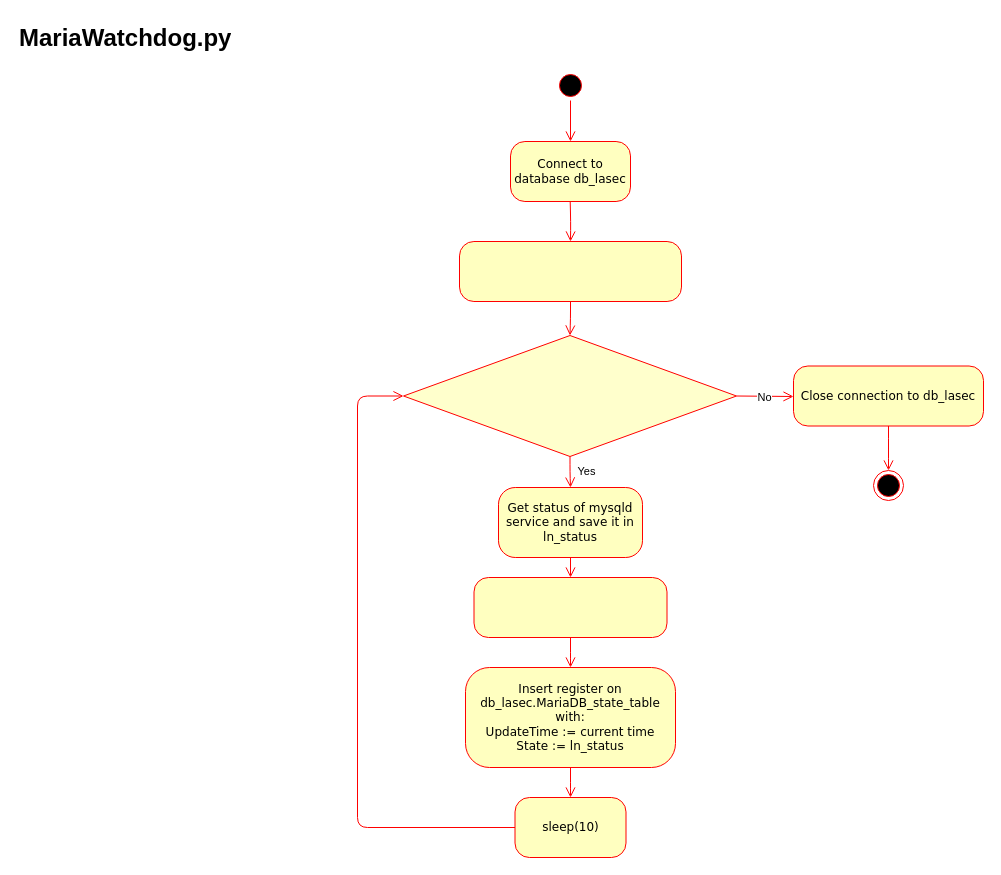
Some shapes in this 1001 by 875 pixel diagram are drawn without their labels. Here are the shapes that lost their labels. From the top down, the centre of each, then its label:
point 570,271: Create file MariaWatchdog_L4_py.pid
point 569,395: Does ConnectionMonitorWIFI_L4_py .pid exist ?
point 570,607: Delete register on db_lasec.MariaDB_state_table
